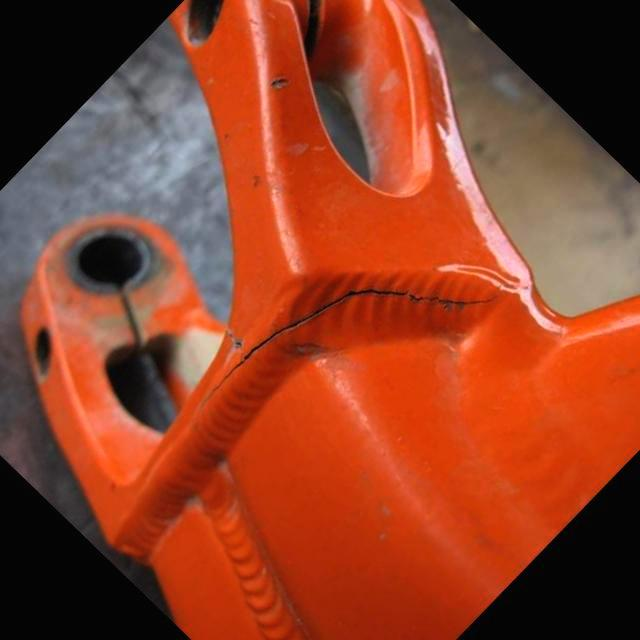defect: (190, 278, 512, 437)
